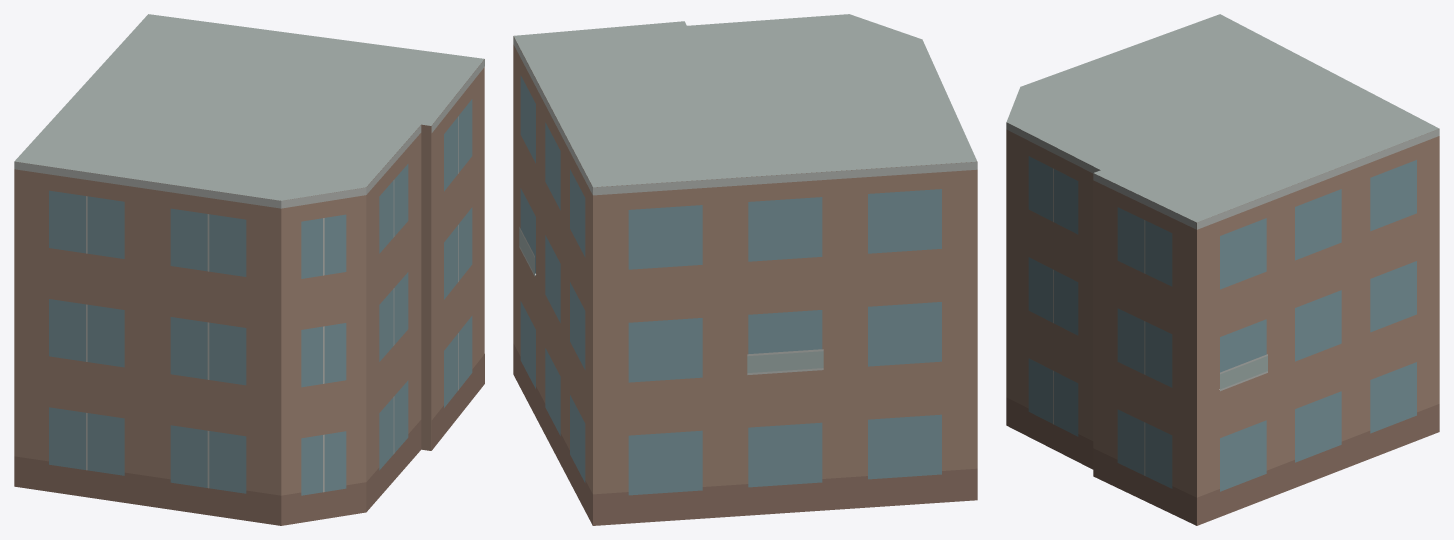
Rendered from survey-upis-33028882.glb.
3 views of the same model, side by side, from view 1: azimuth 30°, elevation 25°; view 2: azimuth 150°, elevation 25°; view 3: azimuth 270°, elevation 25° (orthographic). The views are drawn at different scales.
Visible parts, largest first — view 1: survey-upis-33028882.tmp; view 2: survey-upis-33028882.tmp; view 3: survey-upis-33028882.tmp.
Part boxes in pixels (<box>): survey-upis-33028882.tmp: <box>14,14,484,525</box>; survey-upis-33028882.tmp: <box>513,14,977,525</box>; survey-upis-33028882.tmp: <box>1006,14,1439,525</box>.
Bounding box in the file's own units: 15.05 × 10.2 × 13.21.
